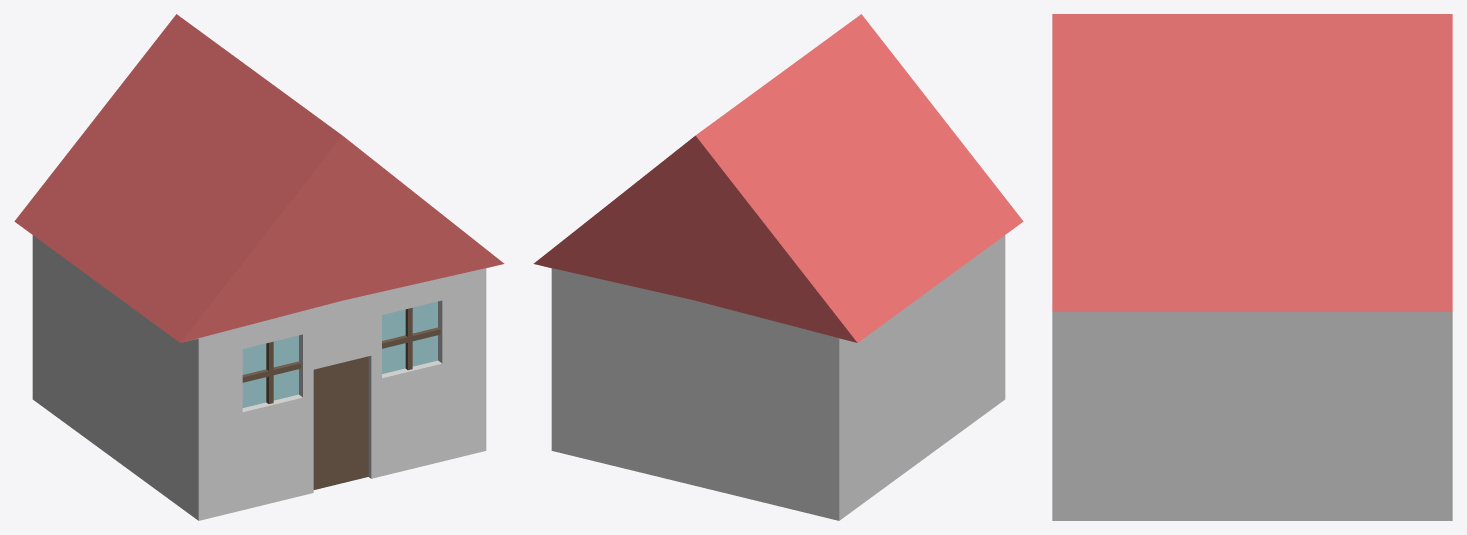
Rendered from home.glb.
The picture shows the model from 3 angles, left to right: view 1: azimuth 30°, elevation 25°; view 2: azimuth 150°, elevation 25°; view 3: azimuth 270°, elevation 25°; orthographic projection. The views are drawn at different scales.
Visible parts, largest first — view 1: Cube; view 2: Cube; view 3: Cube.
Boxes of the visible parts, bbox=[...] form: Cube: bbox=[14, 14, 504, 520]; Cube: bbox=[533, 14, 1023, 520]; Cube: bbox=[1052, 14, 1452, 520].
Bounding box in the file's own units: 2.26 × 2.33 × 2.
